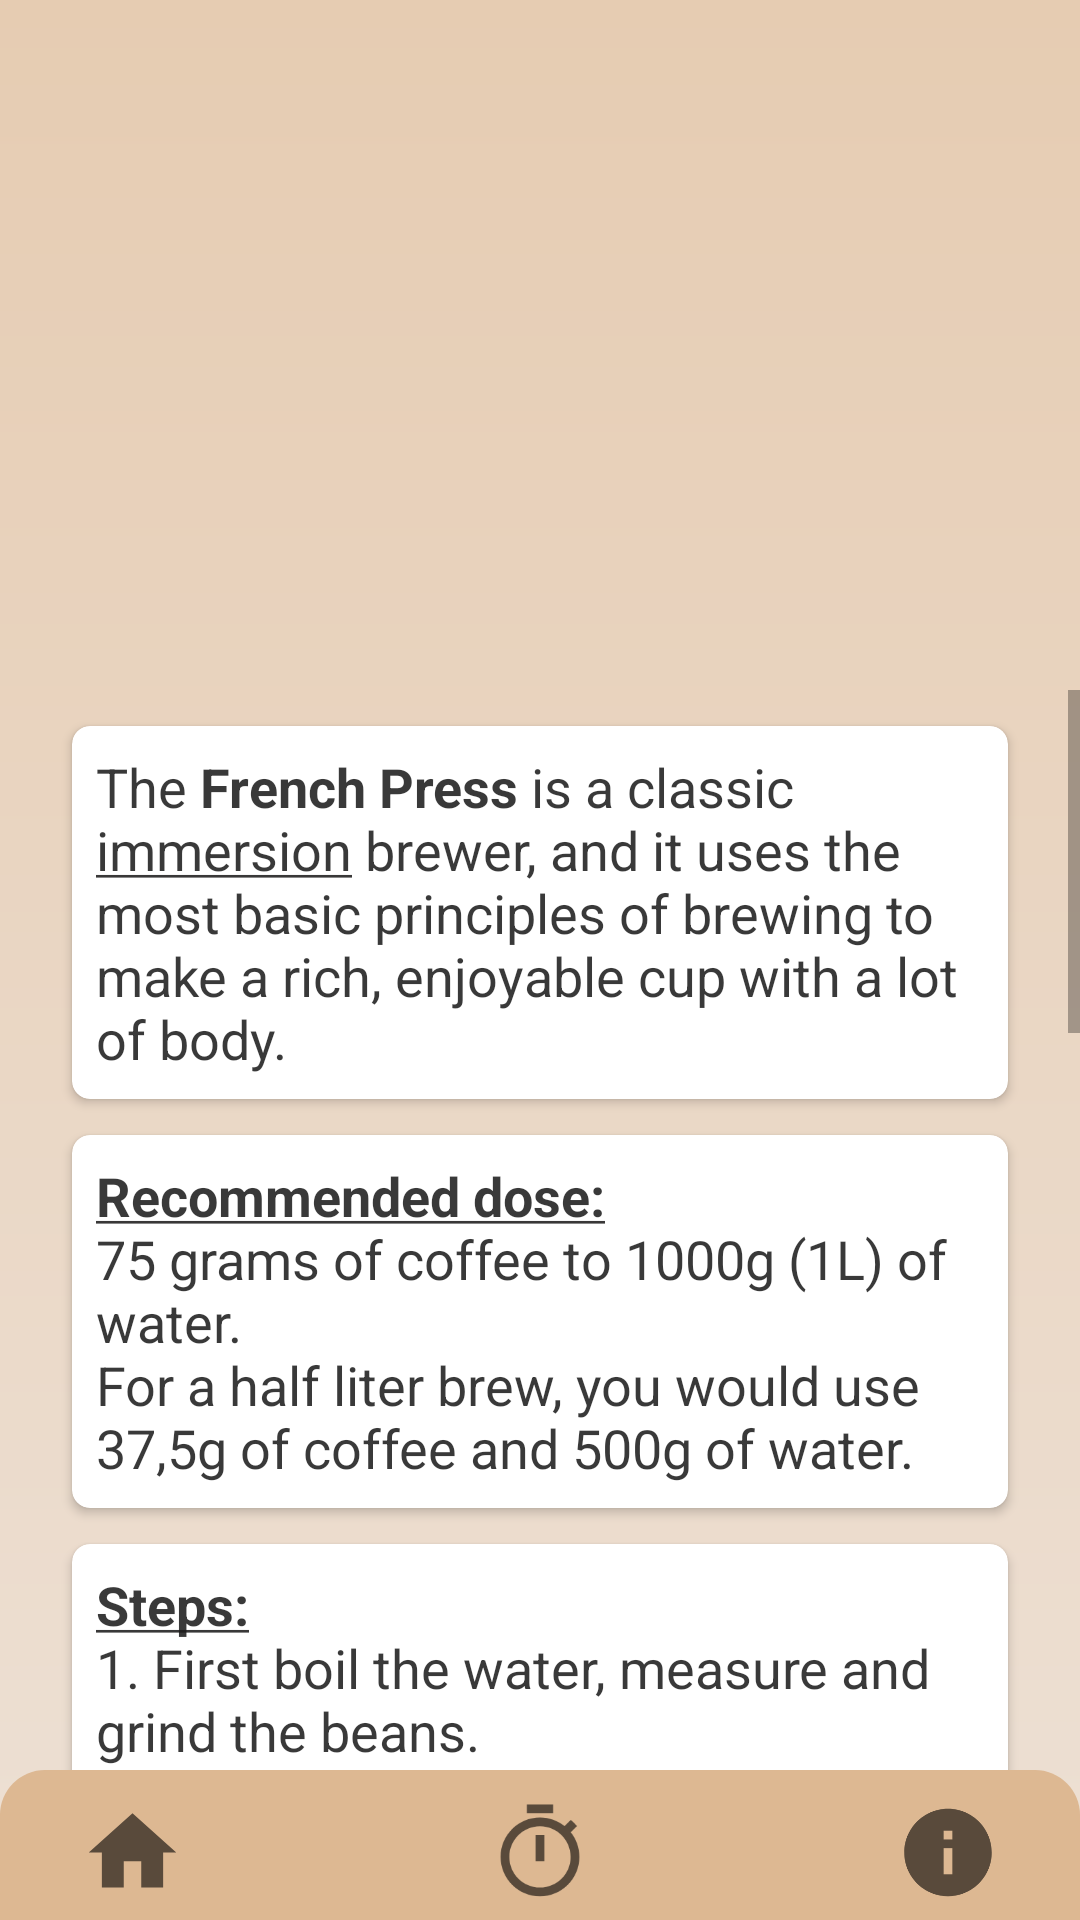

Icons on this 1080px×1920px Android screen, each with its box as bbox=(x1, y1, x2, y2):
home: bbox=(89, 1813, 176, 1888)
info: bbox=(904, 1808, 992, 1897)
Stopwatch: bbox=(500, 1804, 580, 1897)
